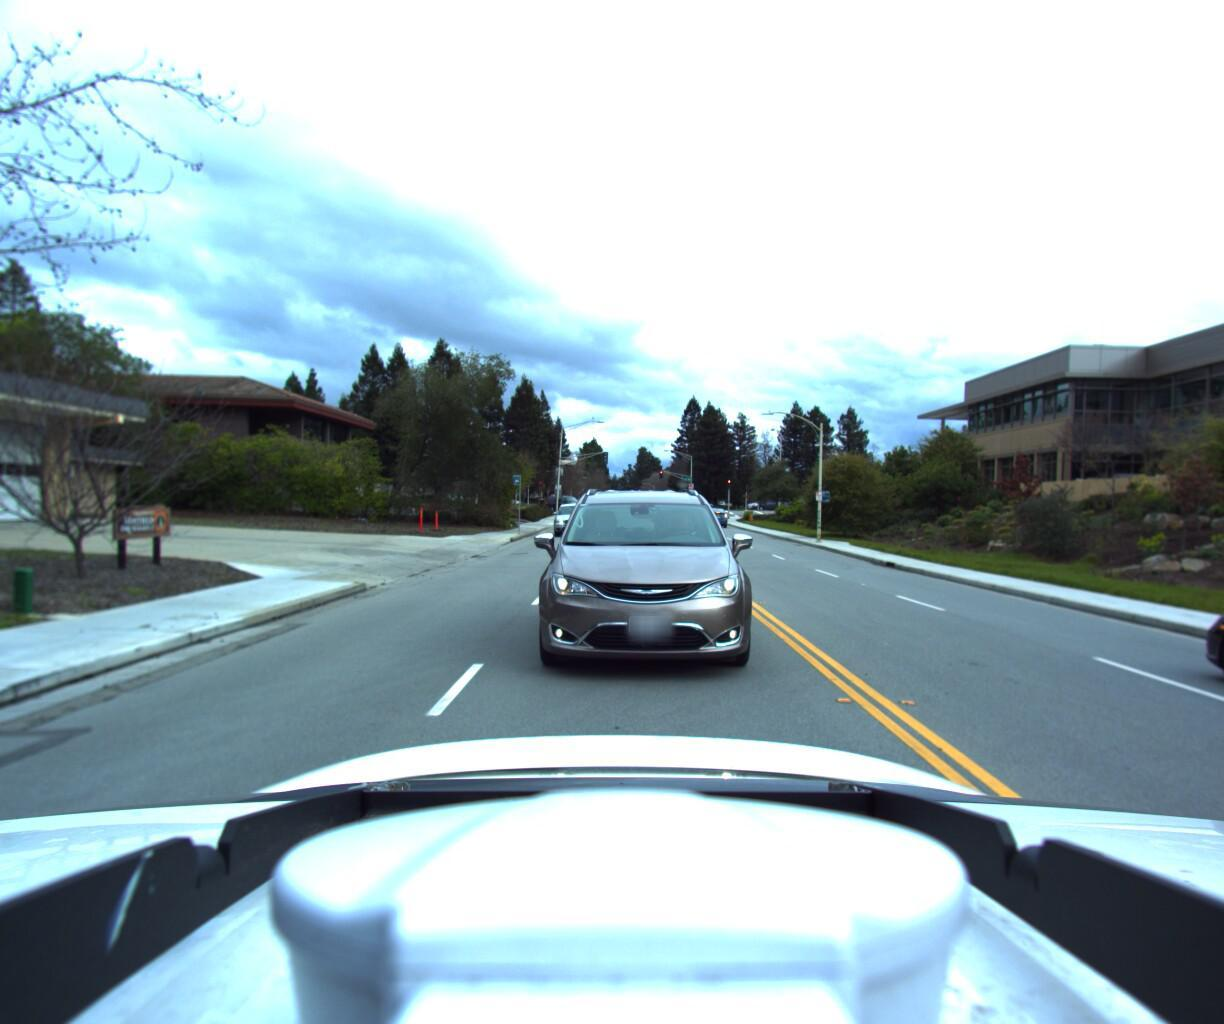car: (485, 460, 794, 716), (1135, 556, 1224, 799), (551, 501, 592, 537), (697, 506, 730, 528)
